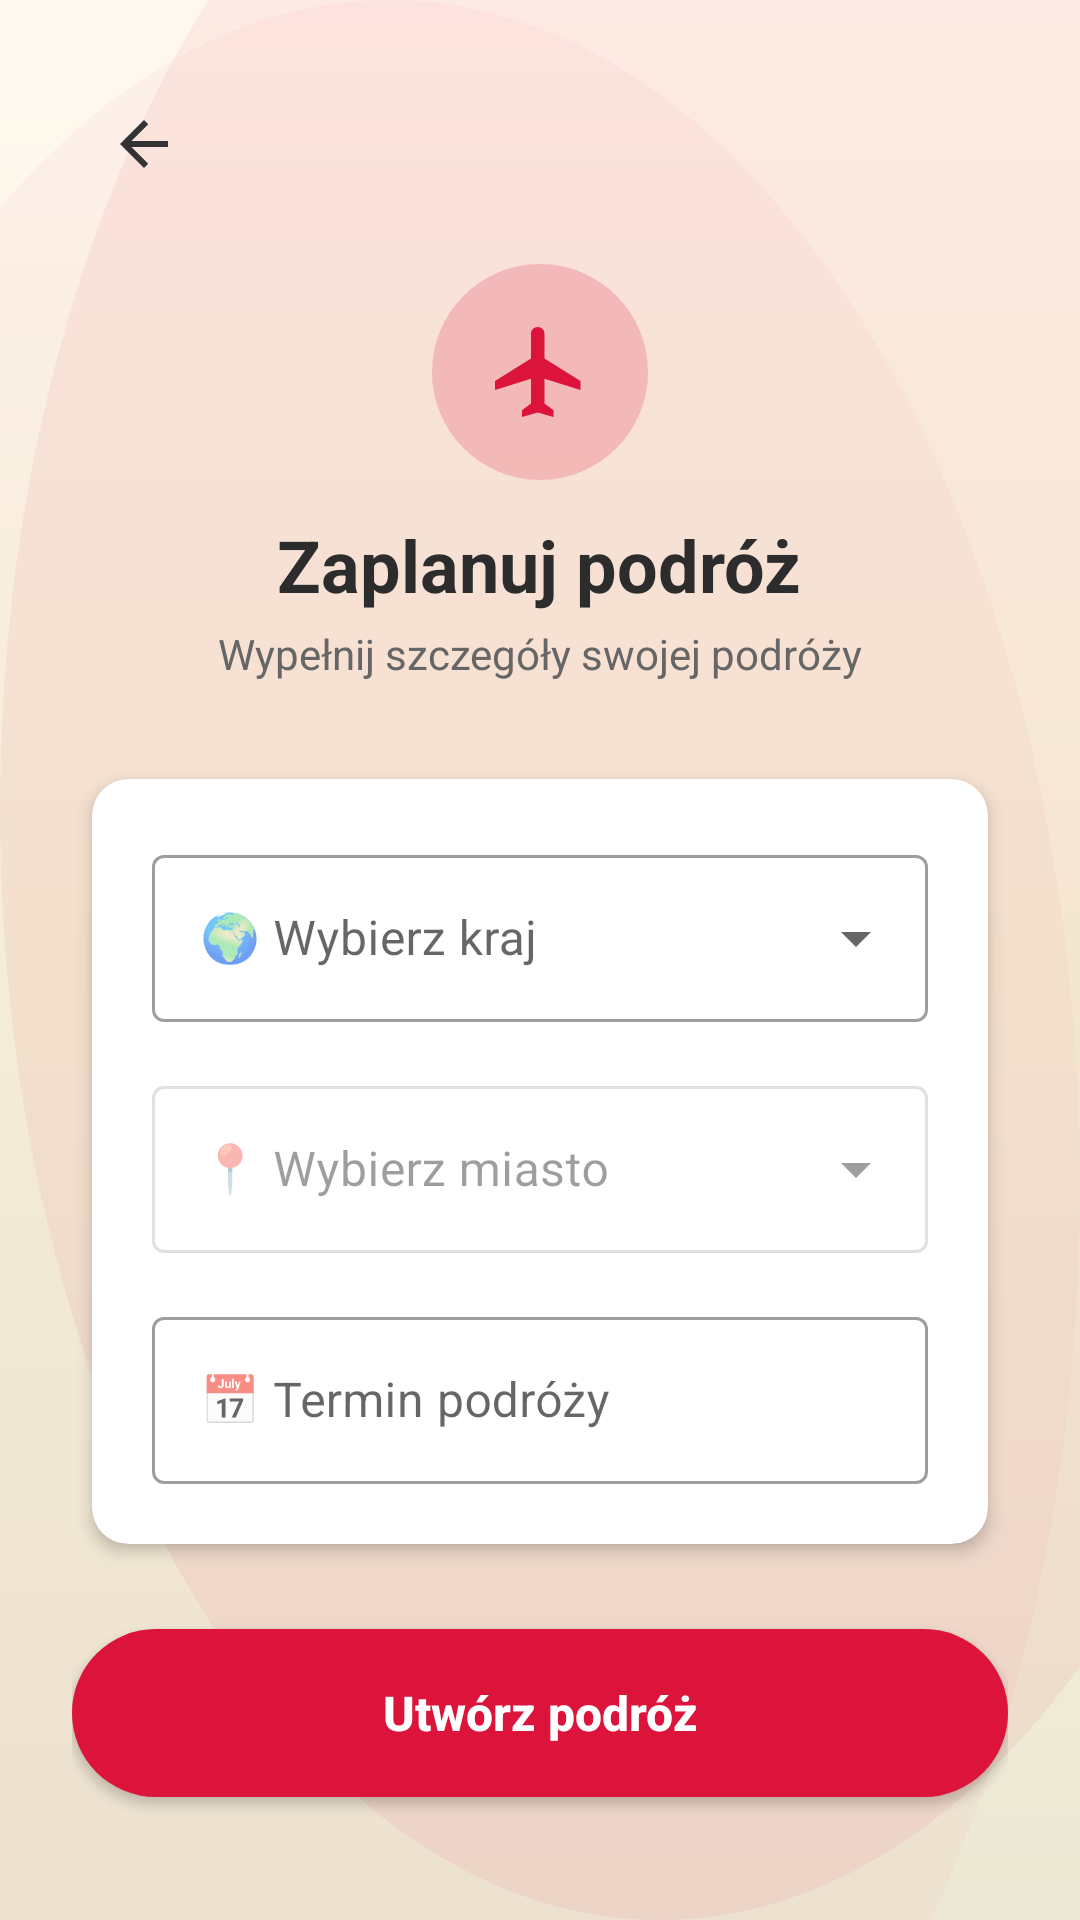

Icon click points for this 1080x1920 phone screenshot, format point (x, y):
Wróć: point (144, 144)
